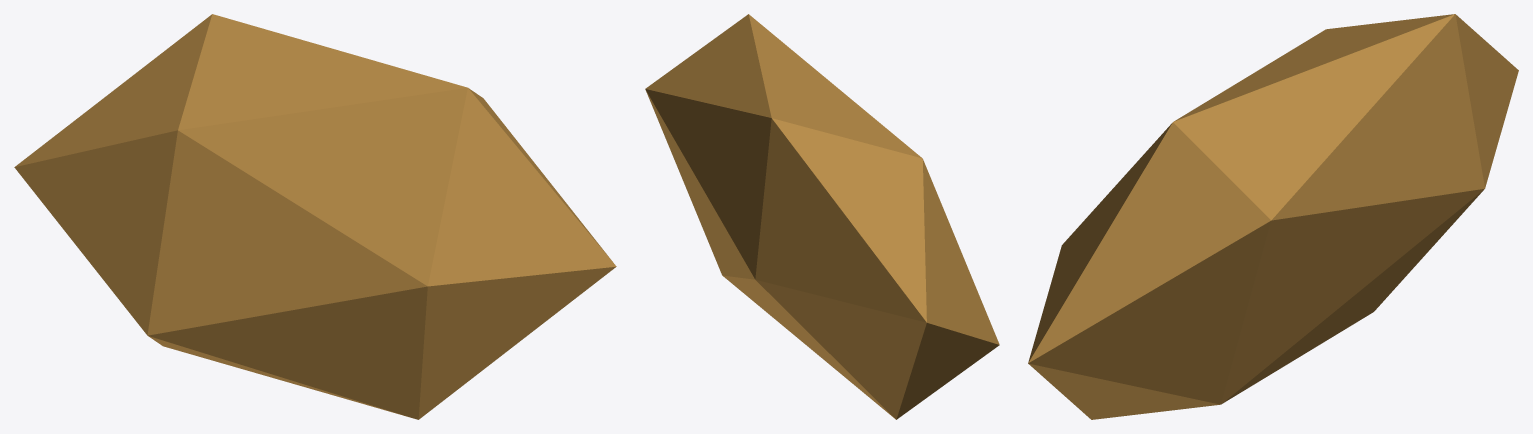
Rendered from gore_07.glb.
The picture shows the model from 3 angles, left to right: view 1: azimuth 30°, elevation 25°; view 2: azimuth 150°, elevation 25°; view 3: azimuth 270°, elevation 25°; orthographic projection. The views are drawn at different scales.
Visible parts, largest first — view 1: CHUNK; view 2: CHUNK; view 3: CHUNK.
Part boxes in pixels (x1,y1,x2,y2): CHUNK: (14, 14, 616, 419); CHUNK: (645, 14, 999, 419); CHUNK: (1028, 14, 1518, 419).
Size of the model in its own units: 0.1009 by 0.0747 by 0.089.
